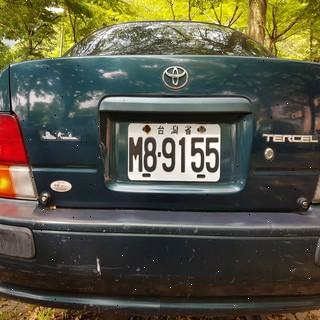license: (125, 132, 221, 177)
